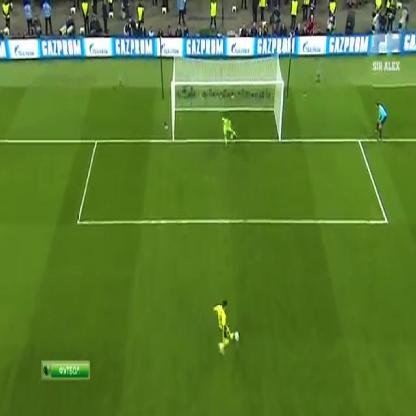penalty kick: (190, 49, 254, 375)
